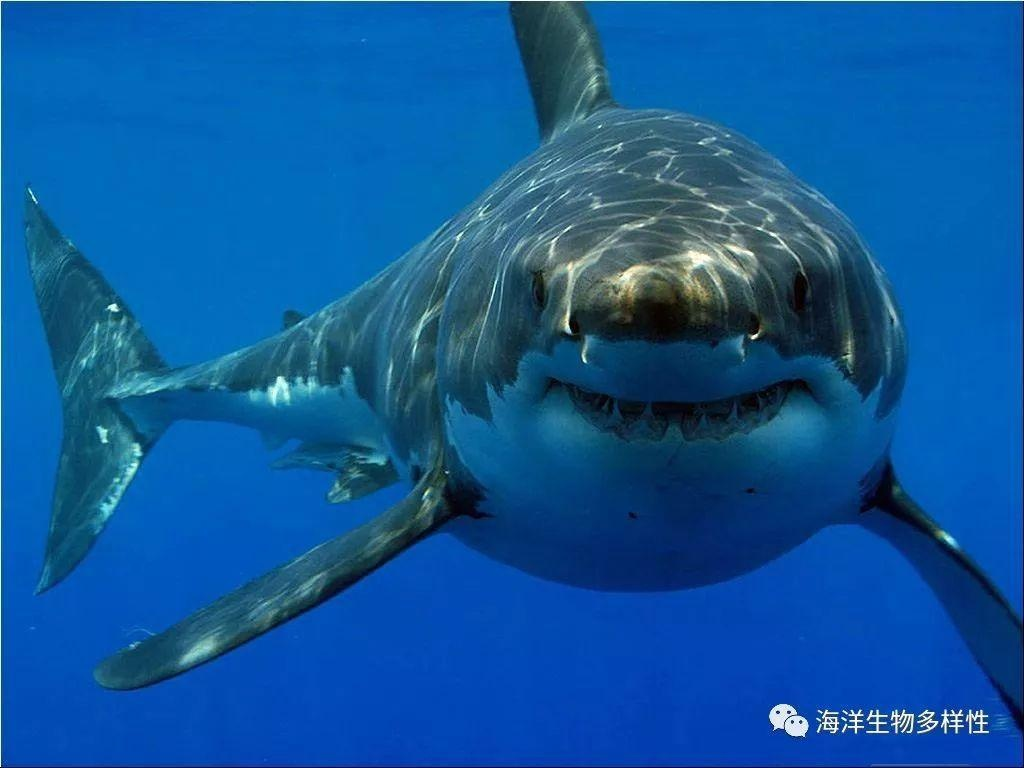fish: (16, 1, 1024, 692)
